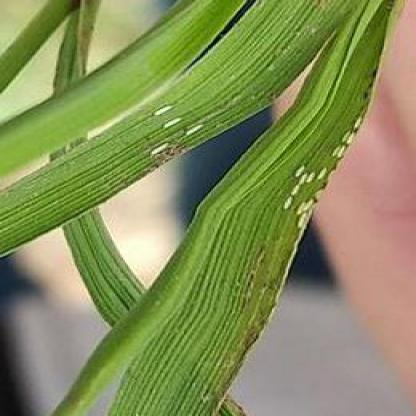whorl-maggot: (140, 132, 174, 162), (276, 192, 303, 219), (335, 124, 363, 148), (307, 163, 336, 186), (183, 122, 211, 145), (146, 99, 172, 119), (160, 115, 186, 135), (284, 182, 310, 201), (328, 145, 352, 162), (352, 112, 370, 132), (294, 160, 306, 181)
